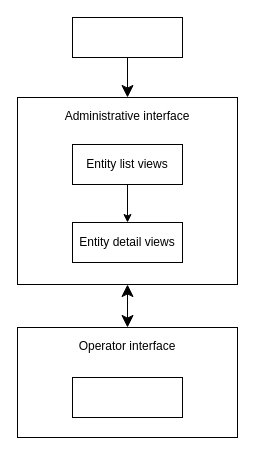
Image size: 255x455. Some labels were removed from this diagram. Here are the shapes that lost their labels. From the top down, the centre of each, then its label:
At (x=127, y=37): "Sign in page".
At (x=127, y=397): "Specialized operator views".
